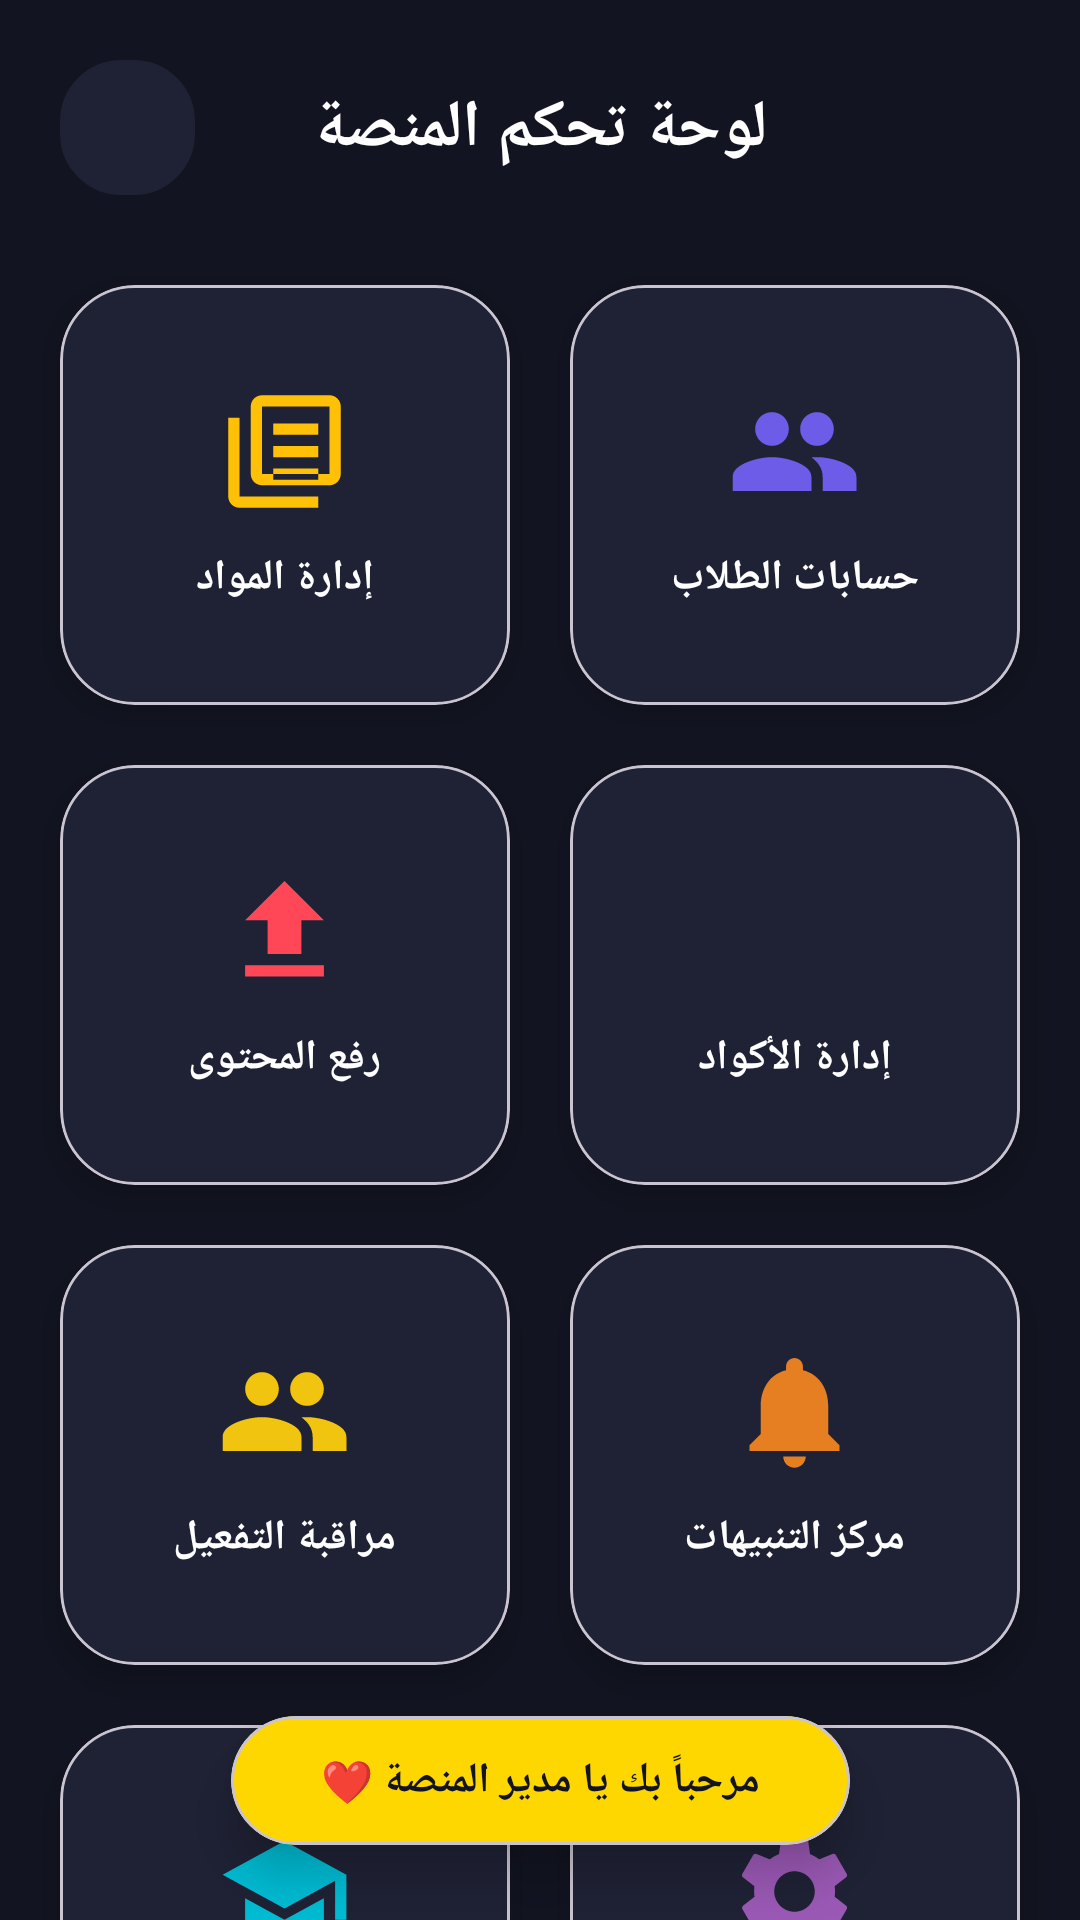

Locate icon controls on the screen. Image size 1080px x 1920px, boxes as (x1, y1, x2, y2).
bell: (749, 1358, 840, 1468)
students: (732, 412, 857, 491), (222, 1372, 347, 1451)
upload: (245, 881, 324, 977)
